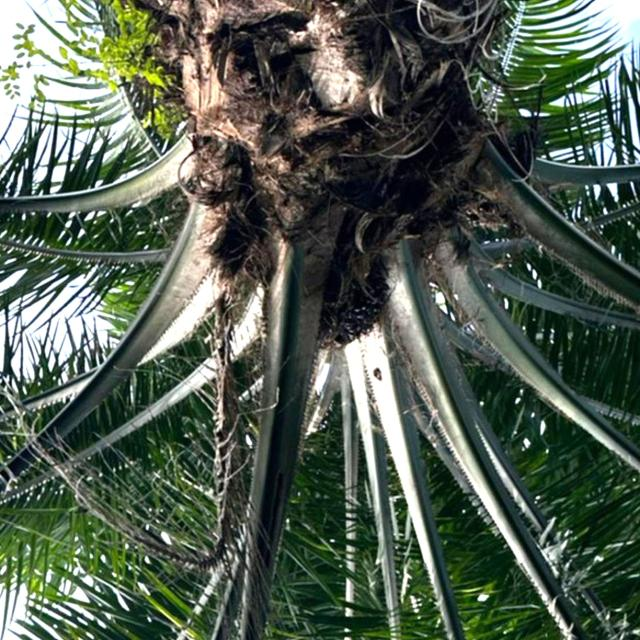almost: (299, 244, 411, 358)
